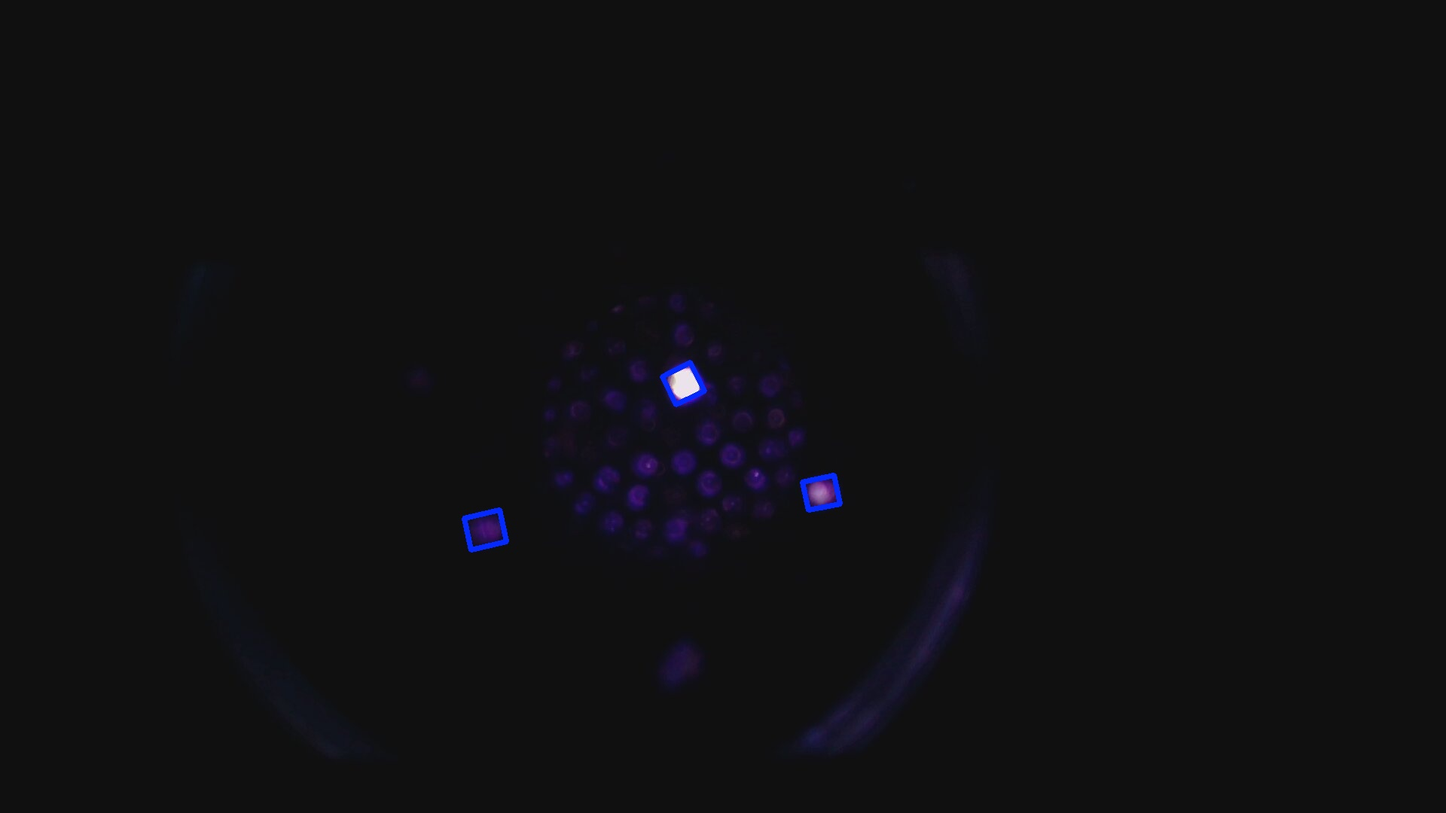plastic: (666, 365, 701, 402), (467, 514, 504, 547), (805, 478, 838, 507)
